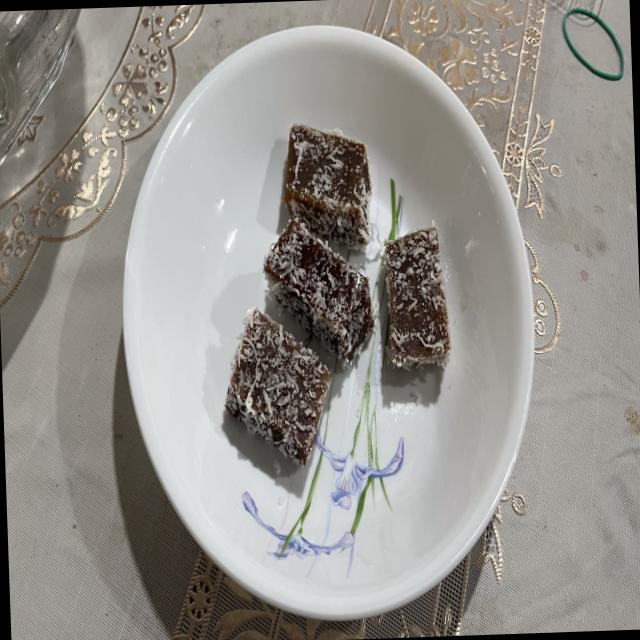kaswi: (263, 219, 374, 368), (225, 309, 330, 465), (283, 123, 371, 246), (385, 227, 450, 368)
